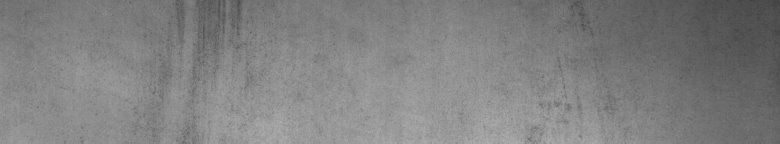ka: (176, 4, 248, 102)
